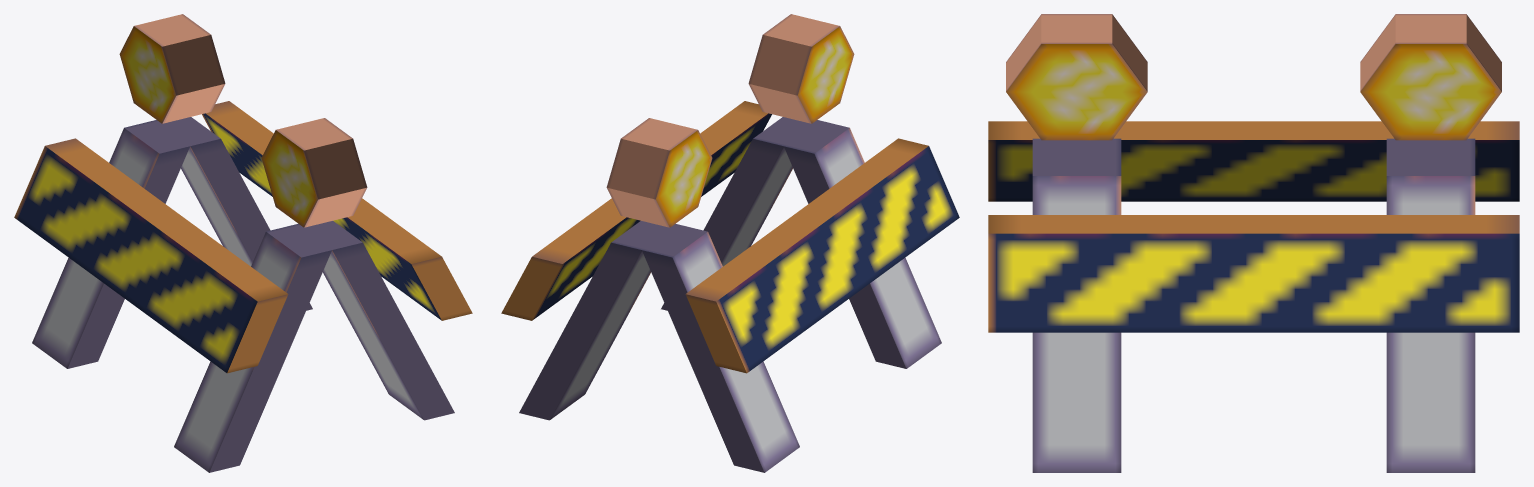
The model's file is warning.obj.
3 views of the same model, side by side, from view 1: azimuth 30°, elevation 25°; view 2: azimuth 150°, elevation 25°; view 3: azimuth 270°, elevation 25° (orthographic). The views are drawn at different scales.
Visible parts, largest first — view 1: warning; view 2: warning; view 3: warning.
Part boxes in pixels (x1,y1,x2,y2): warning: (14, 14, 472, 472); warning: (501, 14, 959, 472); warning: (988, 14, 1519, 472).
Bounding box in the file's own units: 4 × 4.6 × 6.
Materials: 1 (1 with a texture image).
